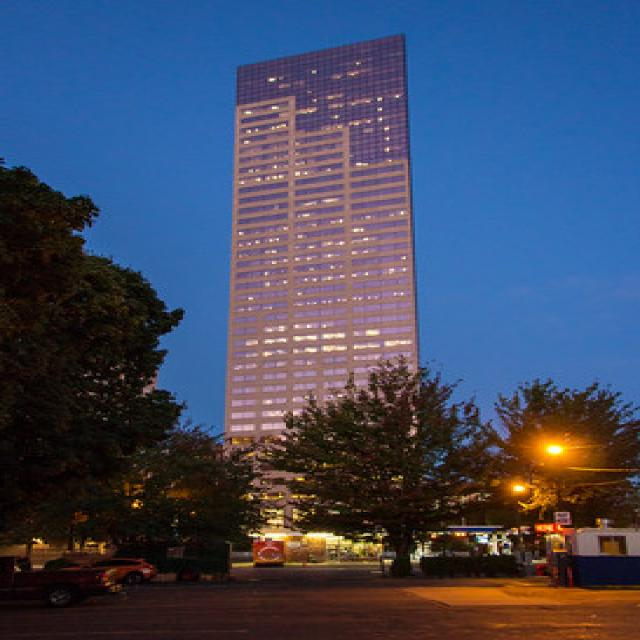Normal_building: (226, 26, 433, 515)
